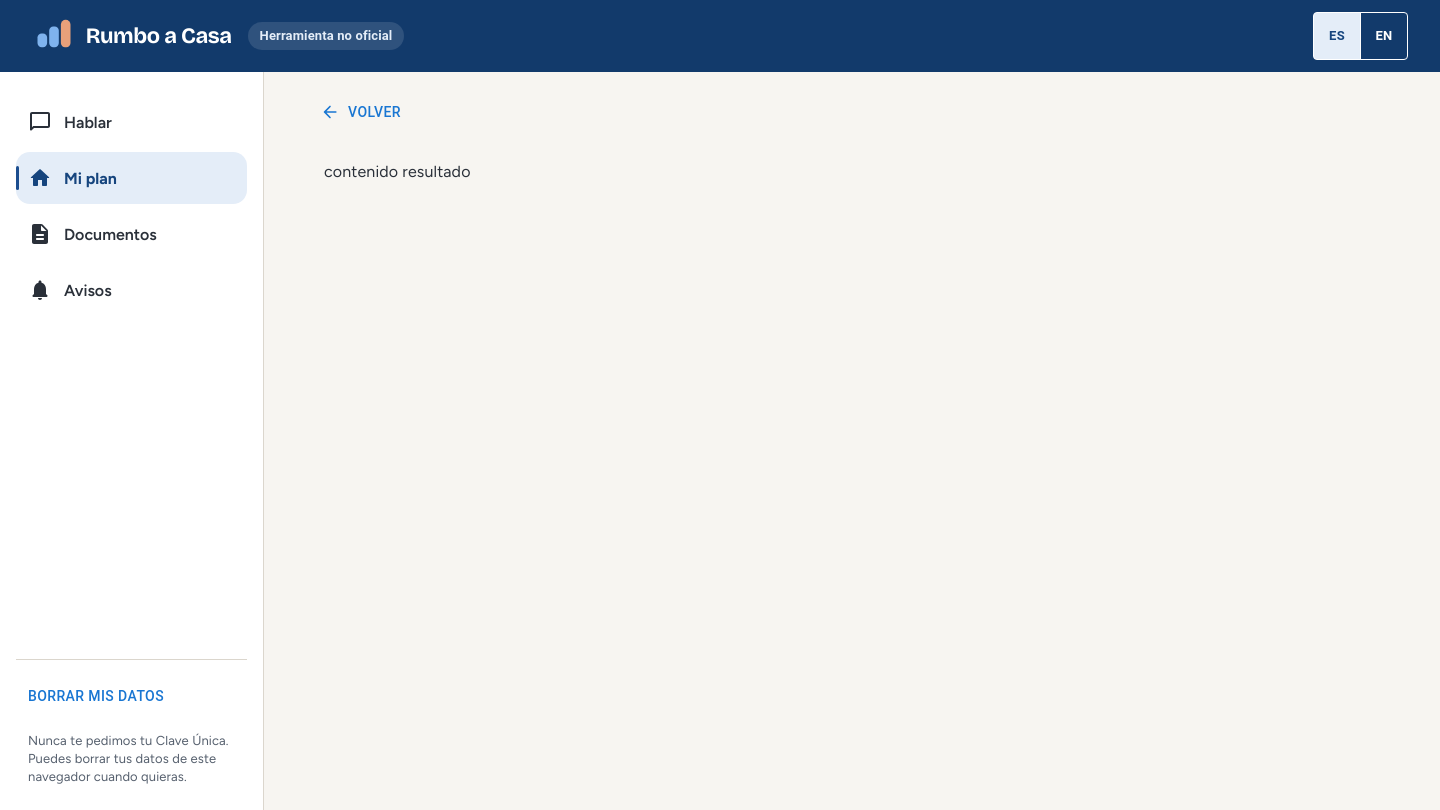
AppShell en escritorio › sin atras no hay botón Volver; con atras, vuelve a la pantalla anterior
Click the button "Volver" at (362, 112), box [312,88,413,136]
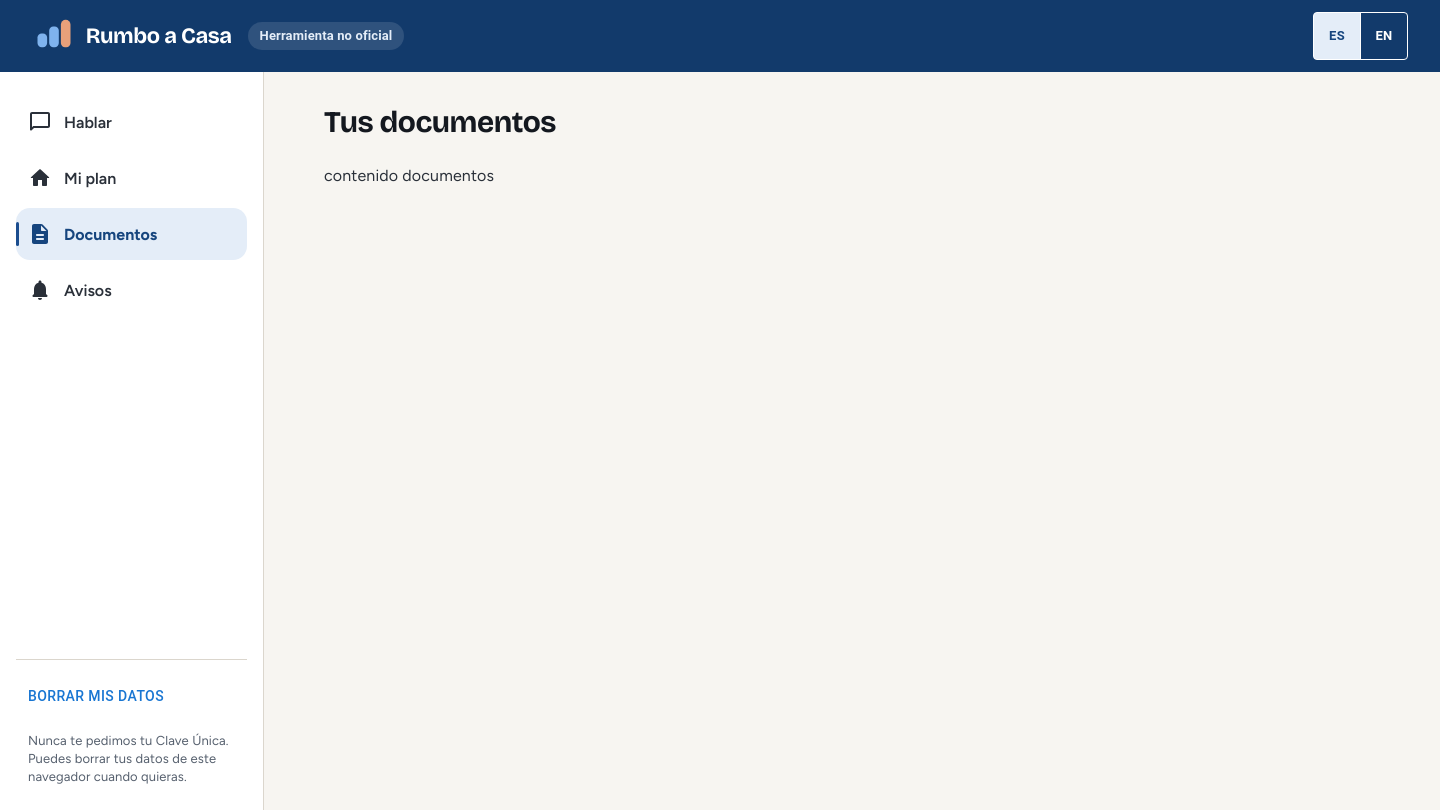
Expected: the text "contenido documentos" is shown, [324,166,494,185]
